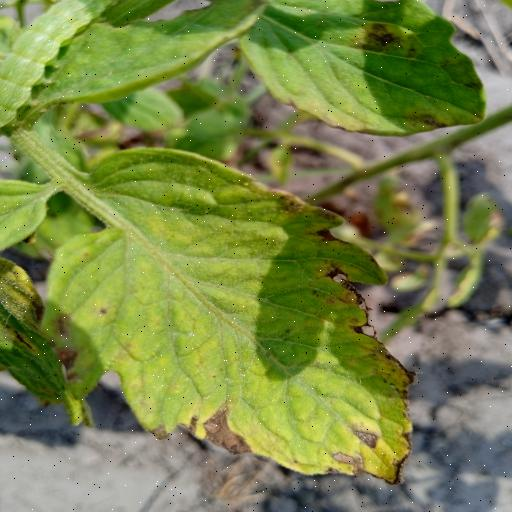Tomato_Brown_Spots: (0, 144, 422, 491), (221, 0, 493, 137)
